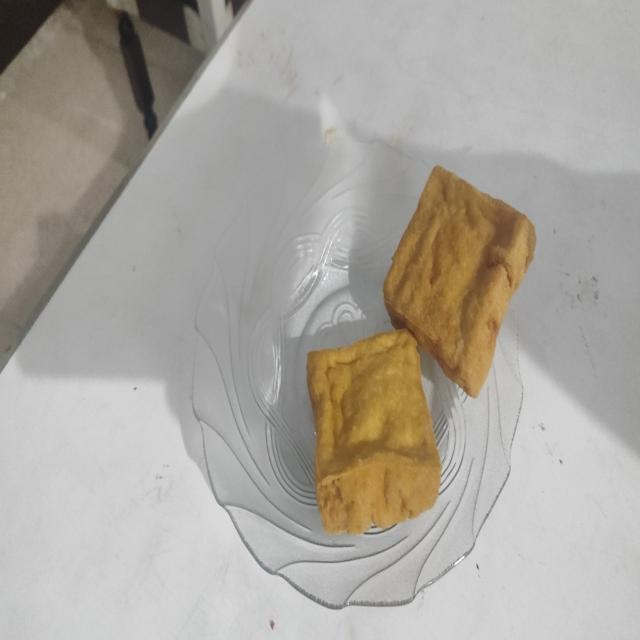tahu_goreng: (384, 166, 536, 398), (307, 328, 441, 534)
